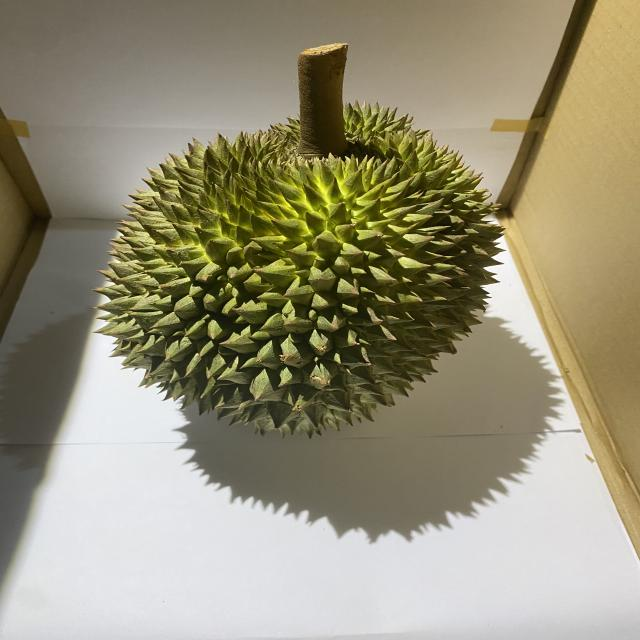immature: (93, 98, 510, 437)
